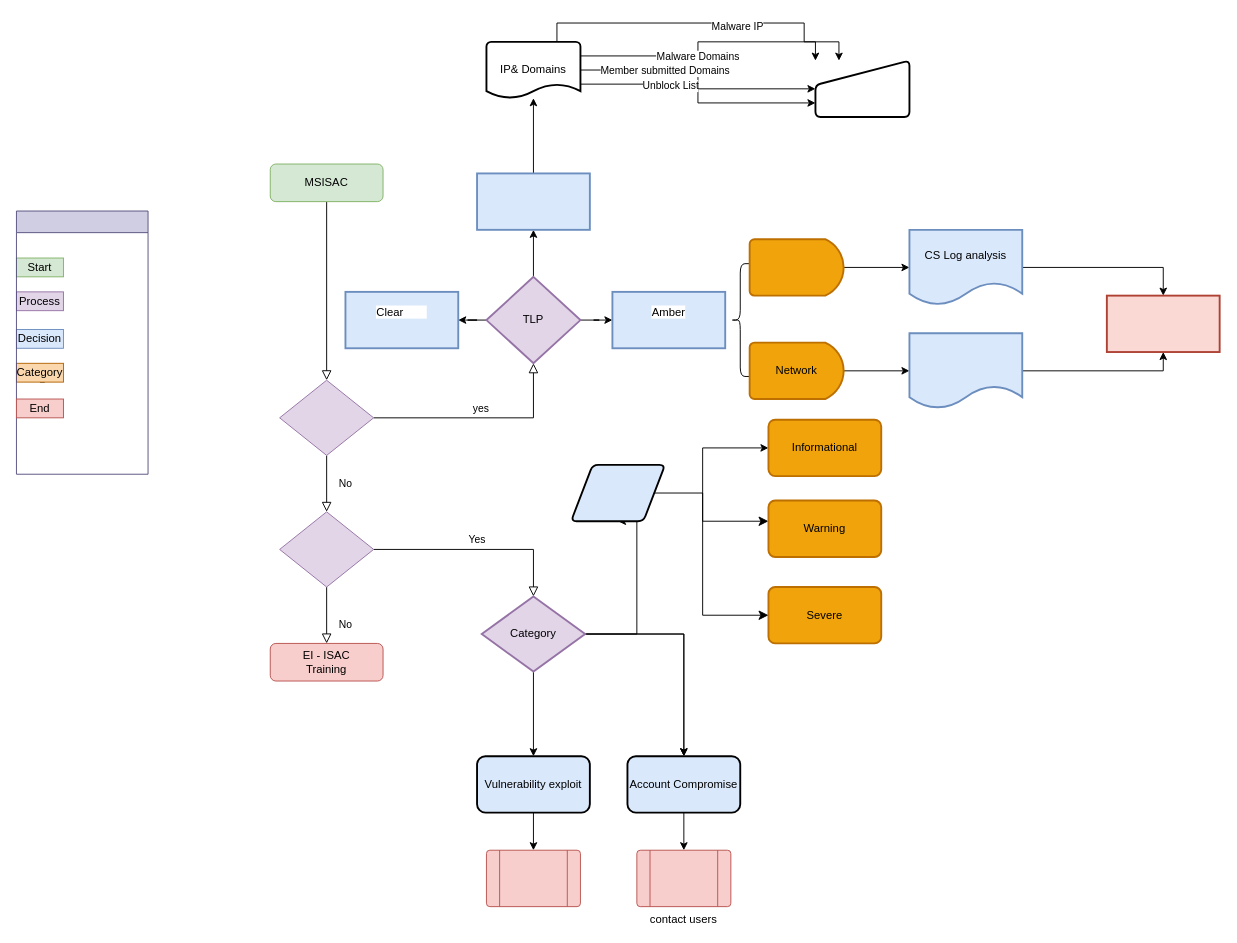
Some shapes in this 1237 by 943 pixel diagram are drawn without their labels. Each missing label, with the box of its shape:
Advisory: (279, 379, 374, 455)
Cisco: (814, 59, 910, 118)
Contact User: (1105, 294, 1220, 352)
contact vuln: (486, 849, 580, 907)
ELK Log analysis: (908, 332, 1023, 409)
Green: (476, 172, 590, 230)
Host: (748, 238, 844, 296)
Incident Response: (570, 463, 666, 522)
Legend: (16, 210, 148, 474)
MS-ISAC SOC: (279, 511, 374, 587)
